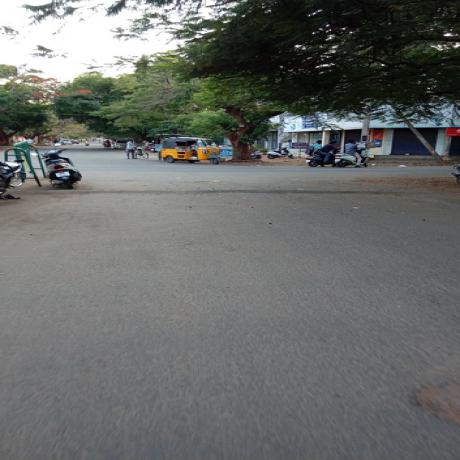Speed Bump: (13, 187, 425, 196)
